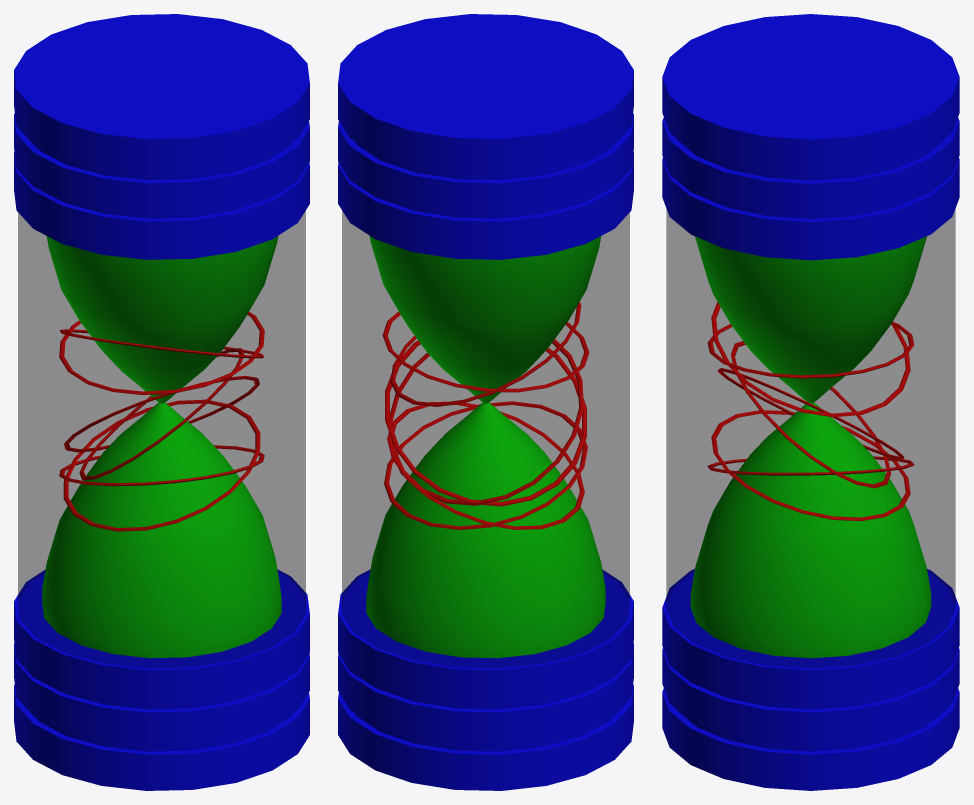
The model's file is multiVersal.fbx.
The picture shows the model from 3 angles, left to right: view 1: azimuth 30°, elevation 25°; view 2: azimuth 150°, elevation 25°; view 3: azimuth 270°, elevation 25°; orthographic projection.
Visible parts, largest first — view 1: MultiVersal; view 2: MultiVersal; view 3: MultiVersal.
Boxes of the visible parts, left/top/right/bottom form: MultiVersal: left=14, top=14, right=309, bottom=790; MultiVersal: left=338, top=14, right=633, bottom=790; MultiVersal: left=662, top=14, right=959, bottom=790.
Bounding box in the file's own units: 1.73 × 4.18 × 1.73.
